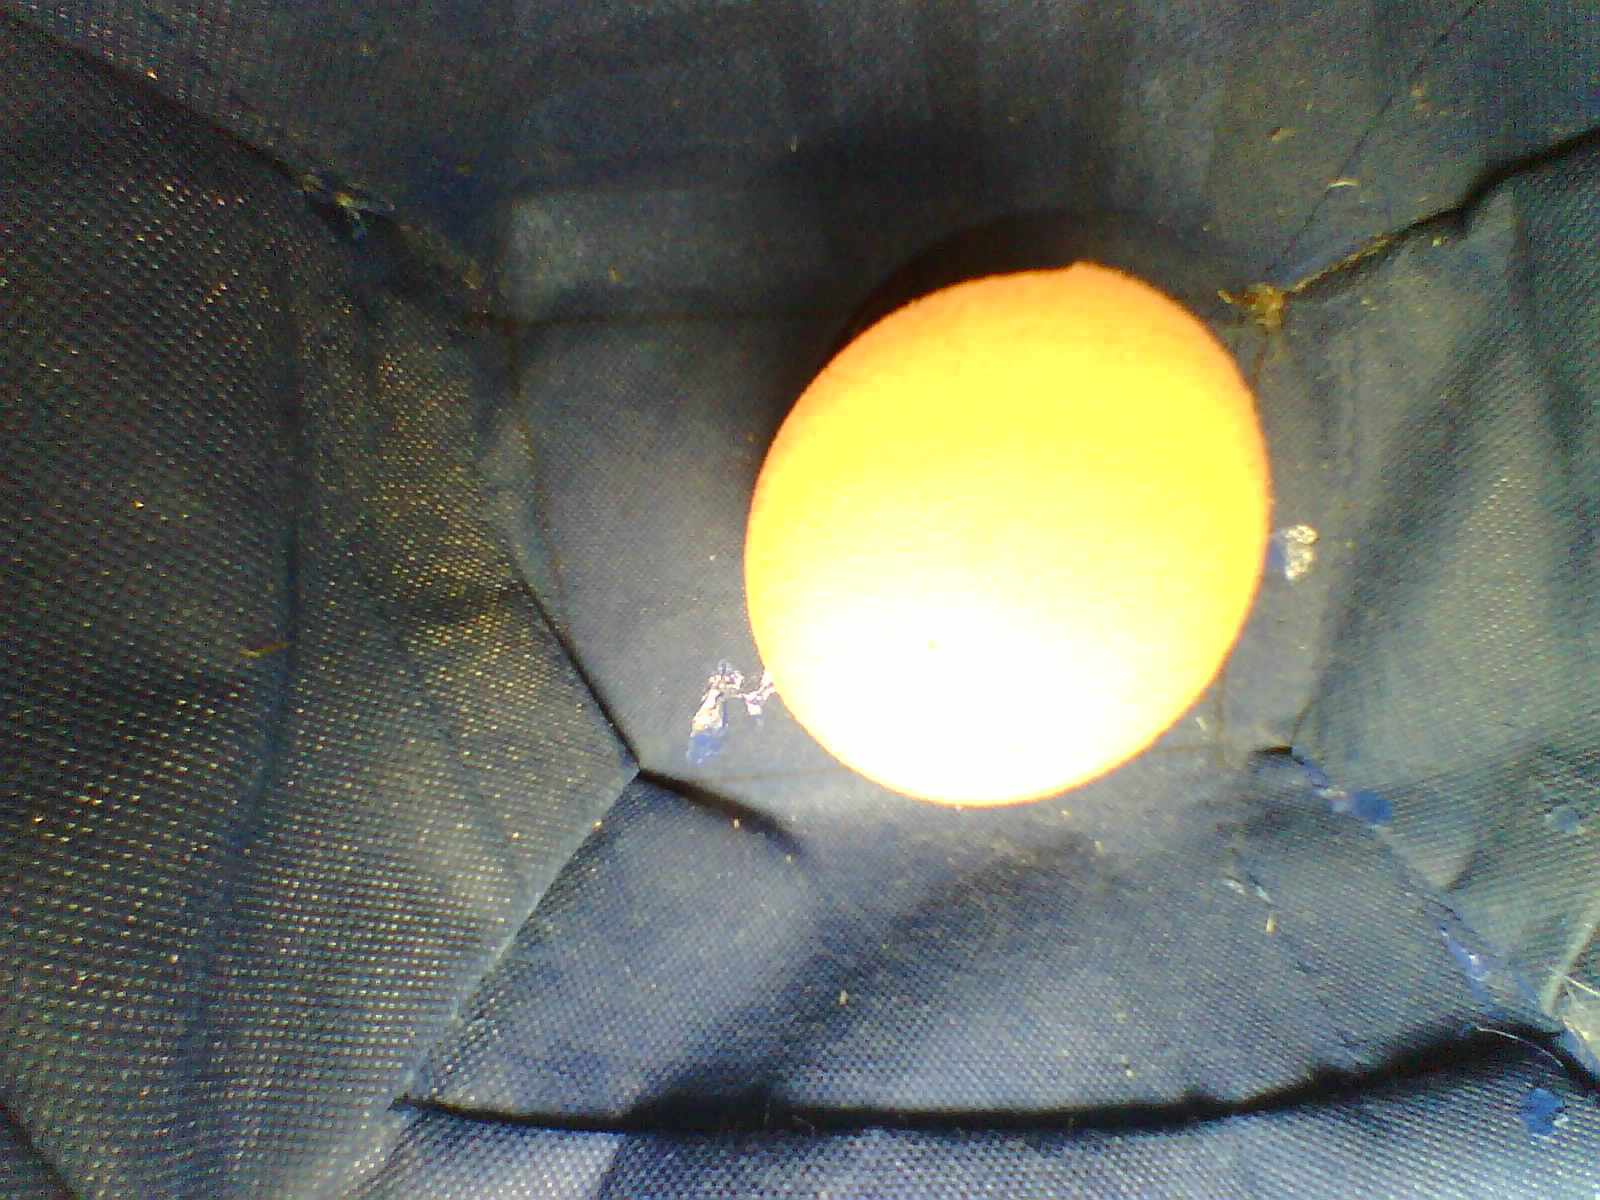cylinder-soft: (728, 238, 1277, 837)
